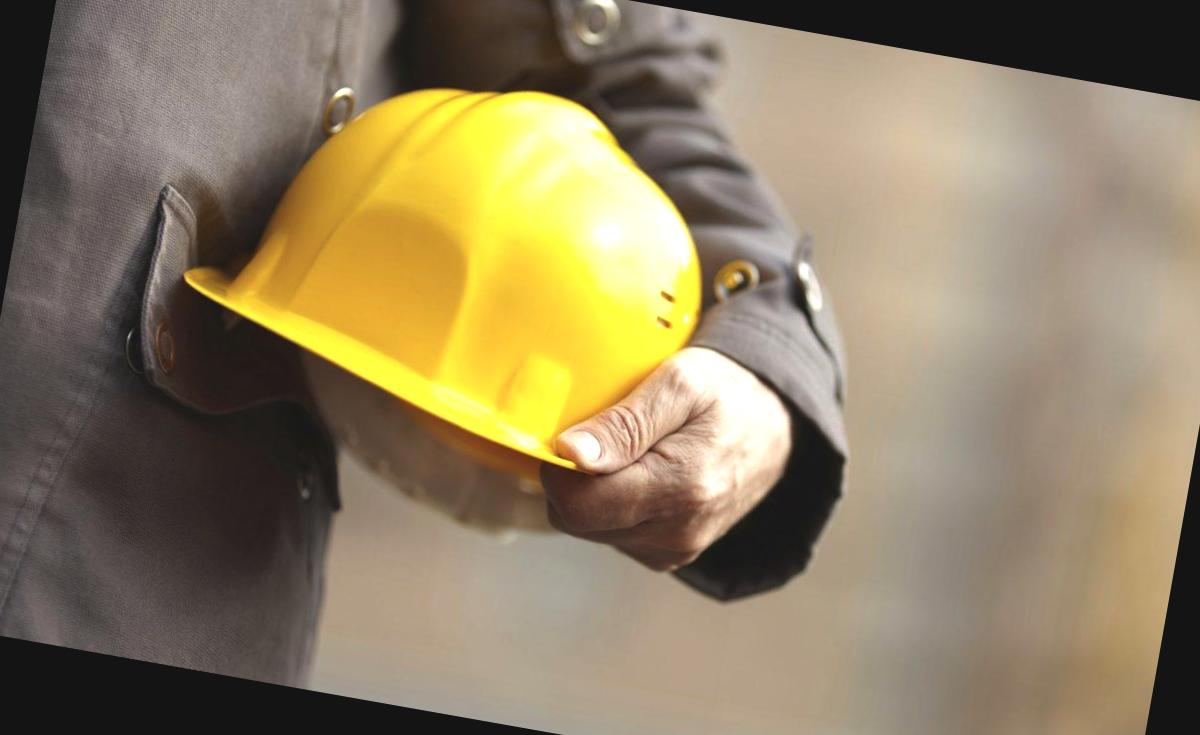helmet: (157, 30, 768, 495)
